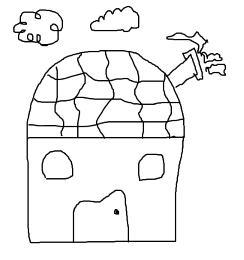clouds: (11, 7, 63, 46), (89, 4, 141, 33)
door: (67, 188, 133, 247)
open_window: (41, 150, 73, 179), (138, 152, 165, 183)
roof: (24, 48, 186, 138)
smoking_chimney: (160, 26, 232, 89)
wall: (20, 133, 191, 247)
